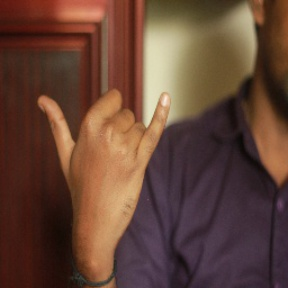J: (35, 62, 172, 225)
